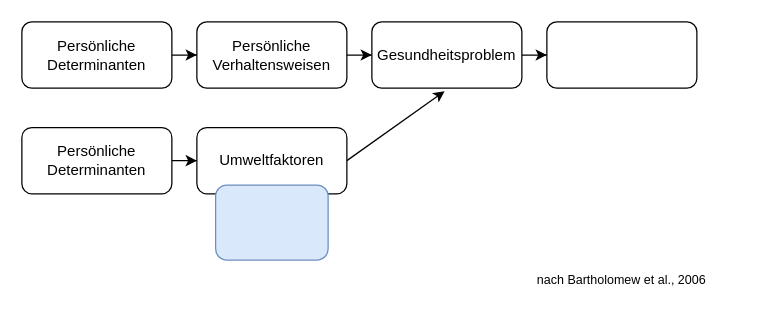
This 775x319 diagram has some shape labels left out. Here are the shapes that lost their labels. From the top down, the centre of each, then its label:
pixel 621 54: Lebensqualität
pixel 271 222: Interpersonal Organisation Gemeinde Gesellschaft
